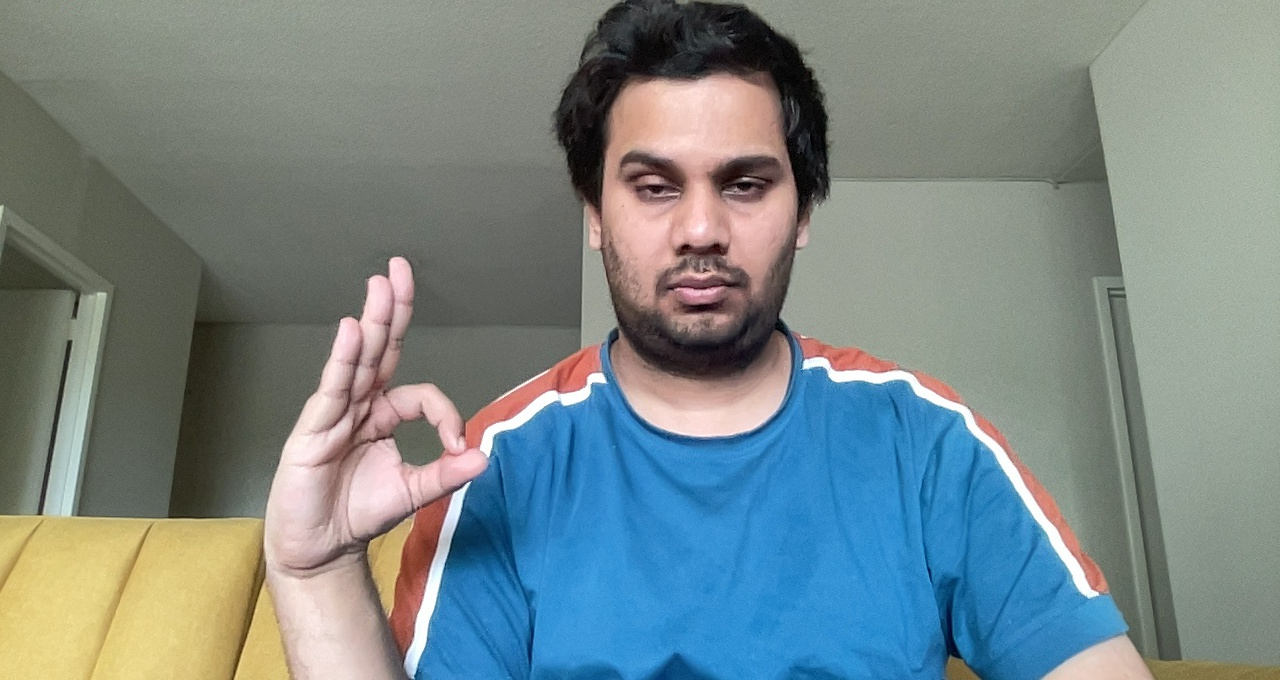ok: (269, 247, 494, 577)
